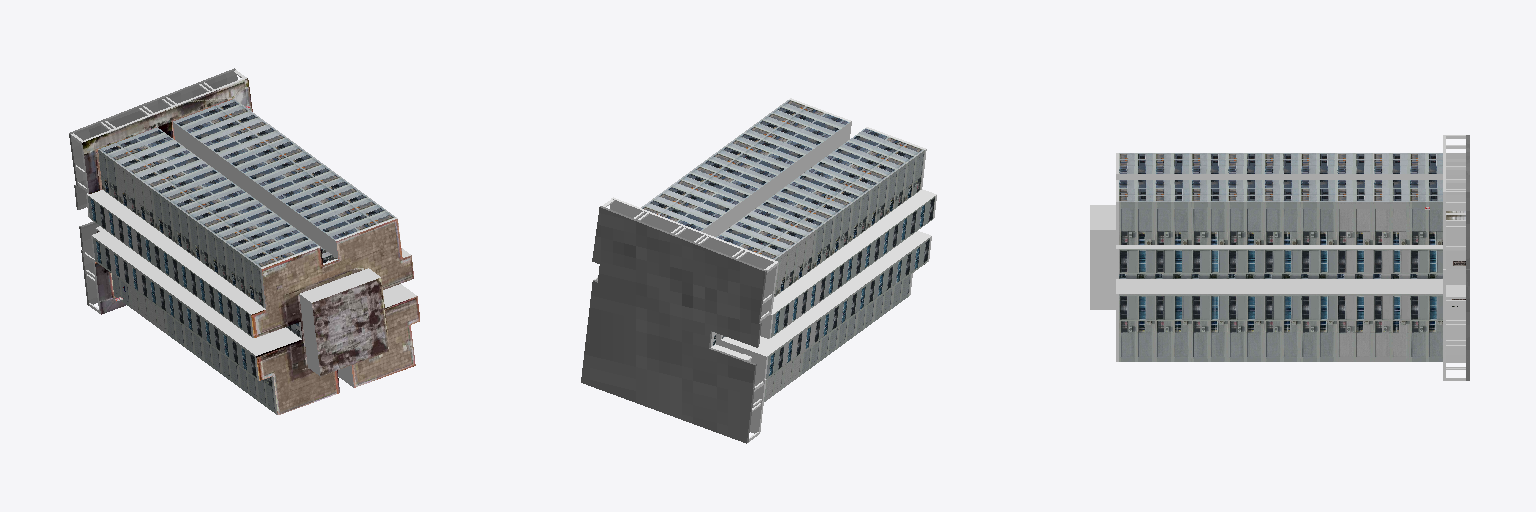
3 views of the same model, side by side, from view 1: azimuth 30°, elevation 25°; view 2: azimuth 150°, elevation 25°; view 3: azimuth 270°, elevation 25° (orthographic).
Parts seen in each view (by area): view 1: polygon.868; view 2: polygon.868; view 3: polygon.868.
Part boxes in pixels (x1,y1,x2,y2): polygon.868: (69,68,419,414); polygon.868: (581,98,936,443); polygon.868: (1090,135,1469,380).
Size of the model in its own units: 32.49 by 33.75 by 57.79.
1 materials, 1 textured.